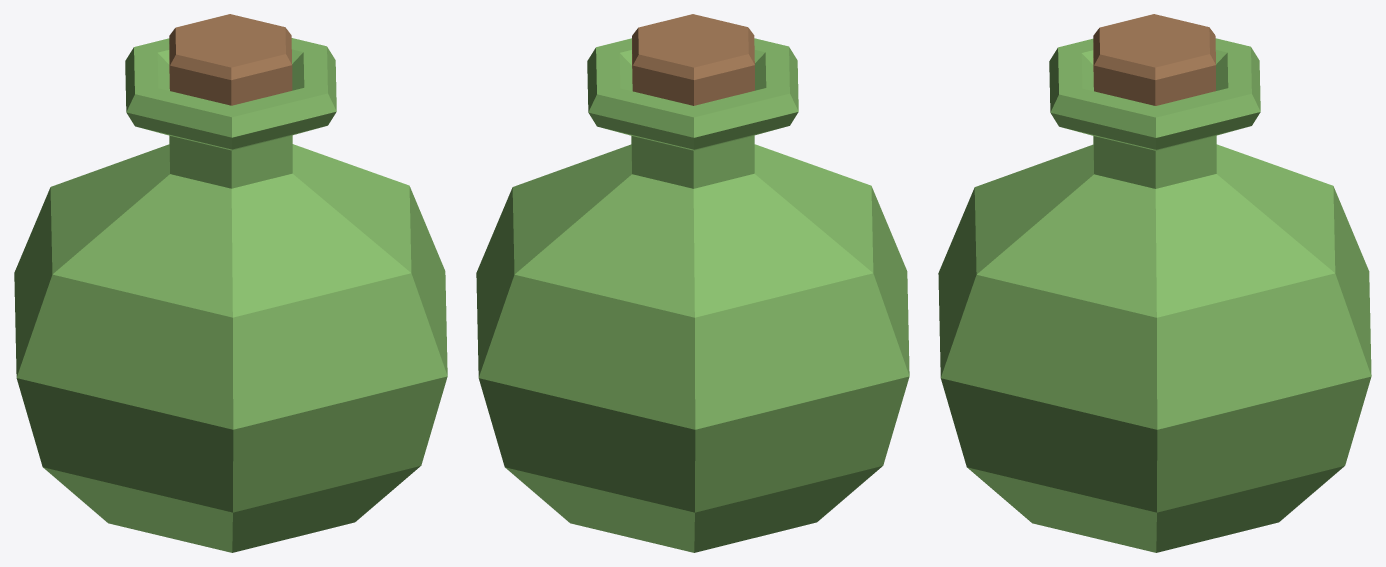
File: Green_Potion_9.fbx
The picture shows the model from 3 angles, left to right: view 1: azimuth 30°, elevation 25°; view 2: azimuth 150°, elevation 25°; view 3: azimuth 270°, elevation 25°; orthographic projection.
Visible parts, largest first — view 1: Green_Potion_9; view 2: Green_Potion_9; view 3: Green_Potion_9.
Boxes of the visible parts, <box> form: Green_Potion_9: <box>14,14,447,552</box>; Green_Potion_9: <box>476,14,909,552</box>; Green_Potion_9: <box>938,14,1371,552</box>.
Bounding box in the file's own units: 20.73 × 20.77 × 18.05.
